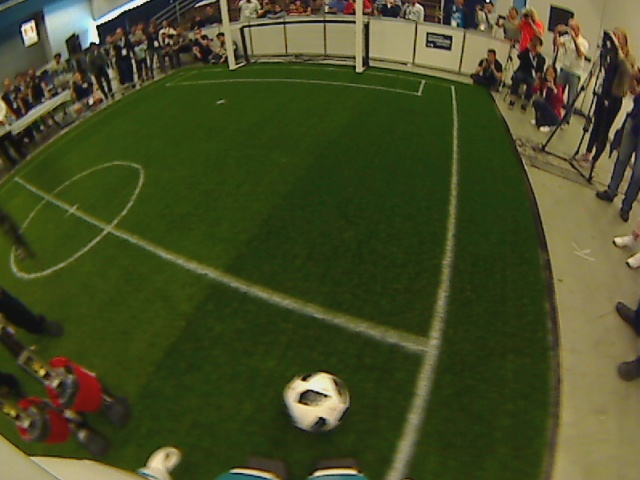ball: (283, 365, 350, 436)
